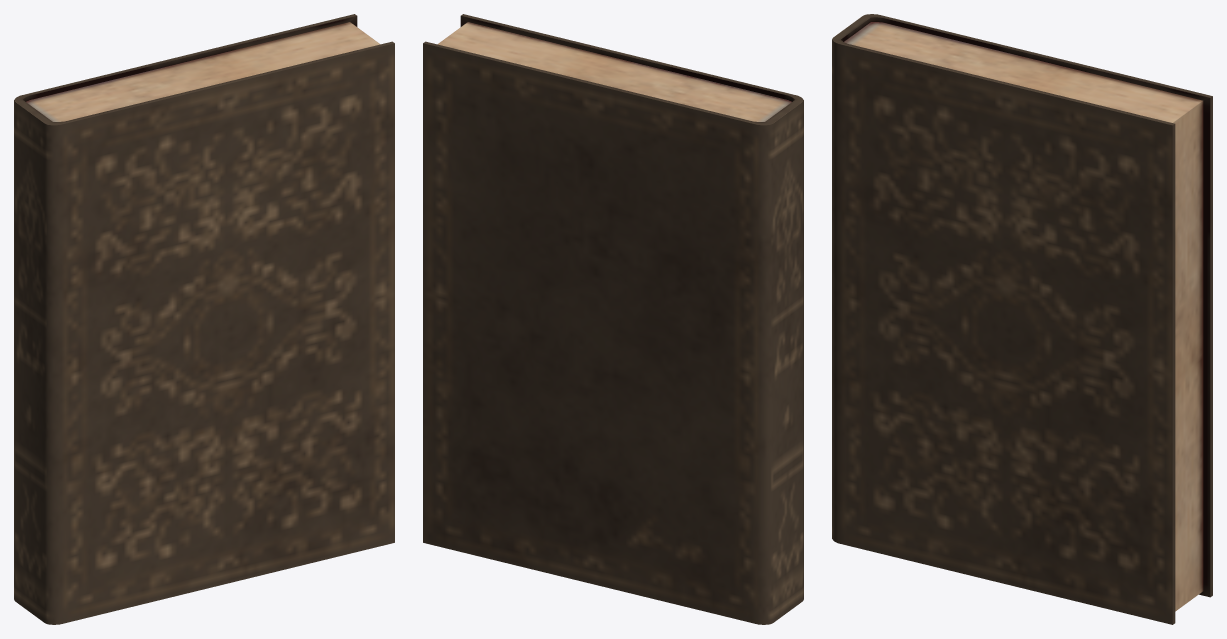
The model's file is sb_obj_indoor048_Book_G.fbx.
The picture shows the model from 3 angles, left to right: view 1: azimuth 30°, elevation 25°; view 2: azimuth 150°, elevation 25°; view 3: azimuth 330°, elevation 25°; orthographic projection.
Visible parts, largest first — view 1: sb_obj_indoor048_Book_G; view 2: sb_obj_indoor048_Book_G; view 3: sb_obj_indoor048_Book_G.
Boxes of the visible parts, bbox=[...] form: sb_obj_indoor048_Book_G: bbox=[14, 14, 394, 624]; sb_obj_indoor048_Book_G: bbox=[423, 14, 803, 624]; sb_obj_indoor048_Book_G: bbox=[832, 14, 1212, 624].
Bounding box in the file's own units: 0.3071 × 0.4251 × 0.0617.
